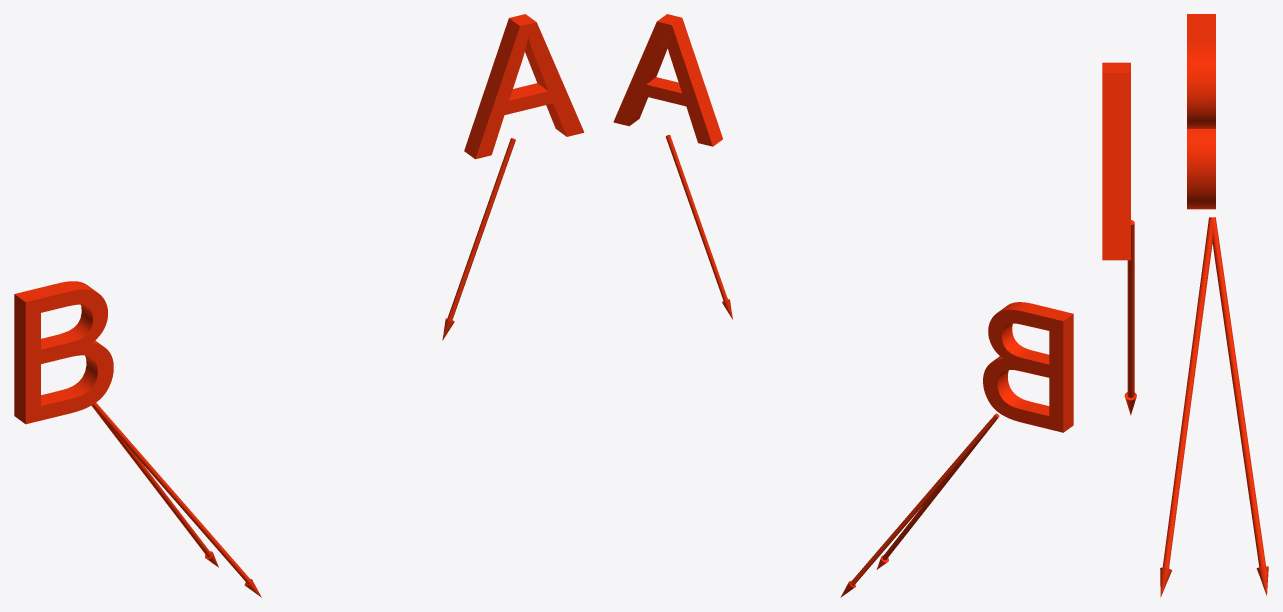
The model's file is 2.1arrow.obj.
3 views of the same model, side by side, from view 1: azimuth 30°, elevation 25°; view 2: azimuth 150°, elevation 25°; view 3: azimuth 270°, elevation 25° (orthographic). The views are drawn at different scales.
Bounding box in the file's own units: 6.75 × 6.52 × 1.44.
